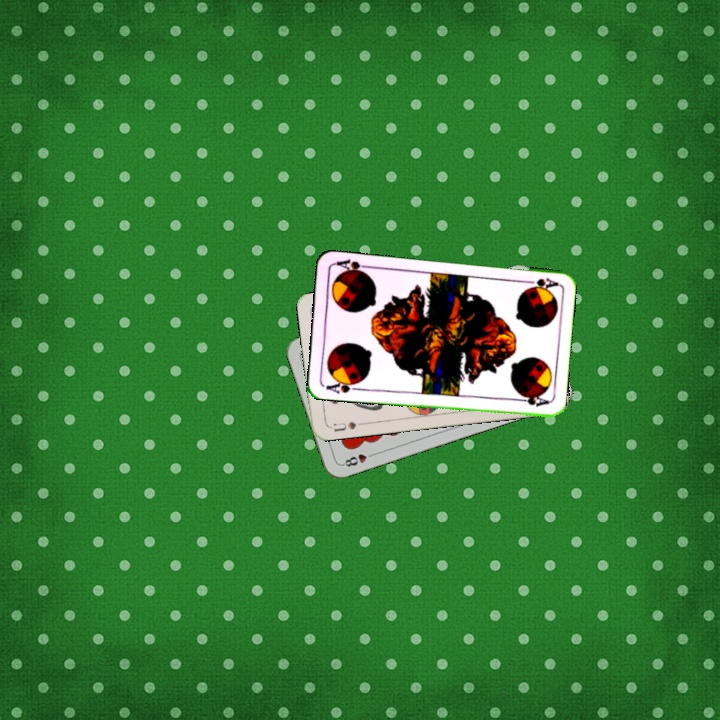H8: (338, 449, 378, 469)
SA: (322, 375, 362, 396), (519, 274, 560, 292)
SU: (330, 418, 366, 434)
